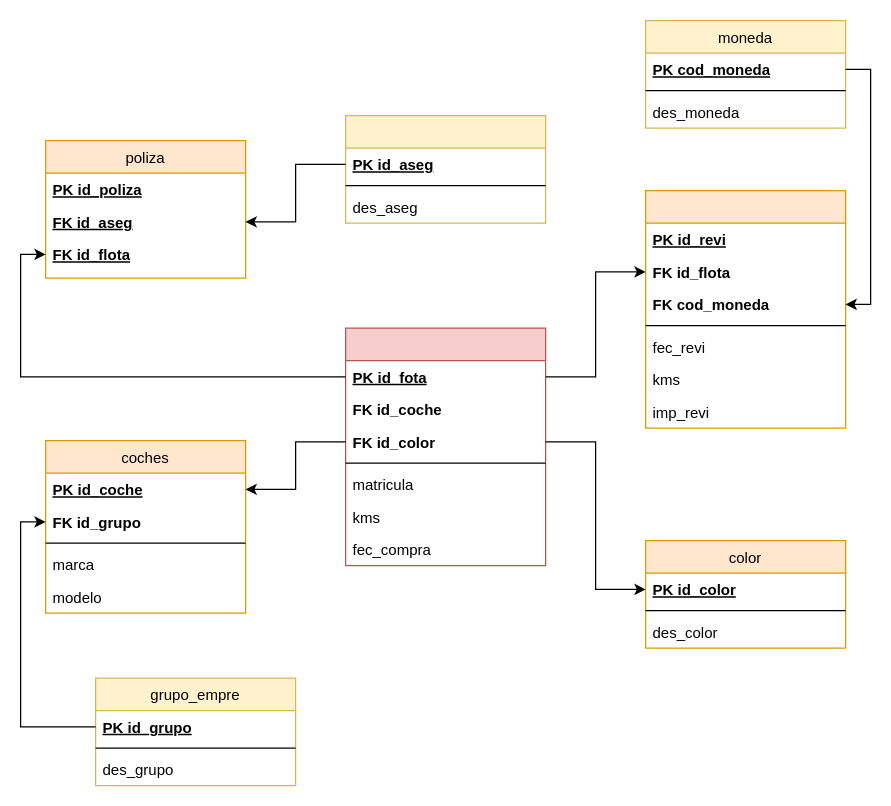
This 891x806 diagram has some shape labels left out. The shapes that lost their labels are listed below. From the top down, each one's box as (x1, y1, x2, y2) in pixels, then its label:
(344, 114, 546, 223): aseguradora
(644, 189, 846, 428): revisiones
(344, 327, 546, 566): flota
